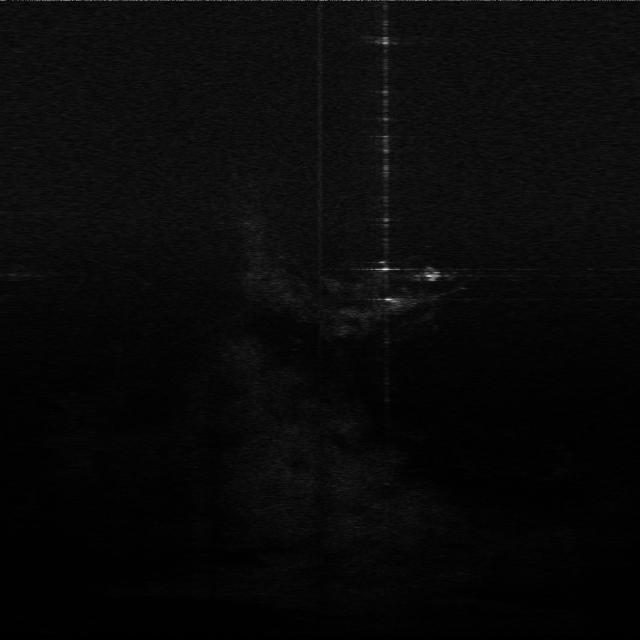rov: (420, 264, 446, 282)
